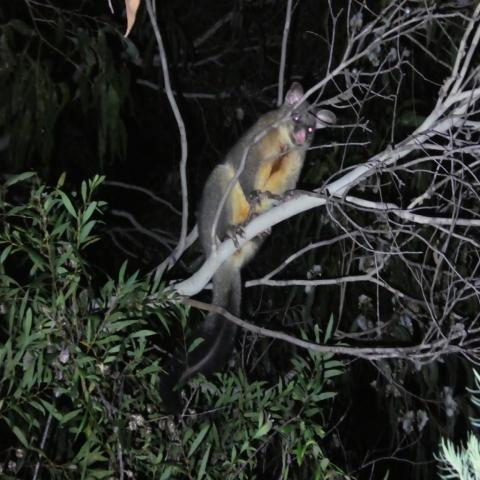small_animal: (196, 79, 337, 364)
